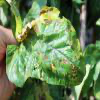Tomato Septoria leaf spot: (4, 6, 88, 92)
